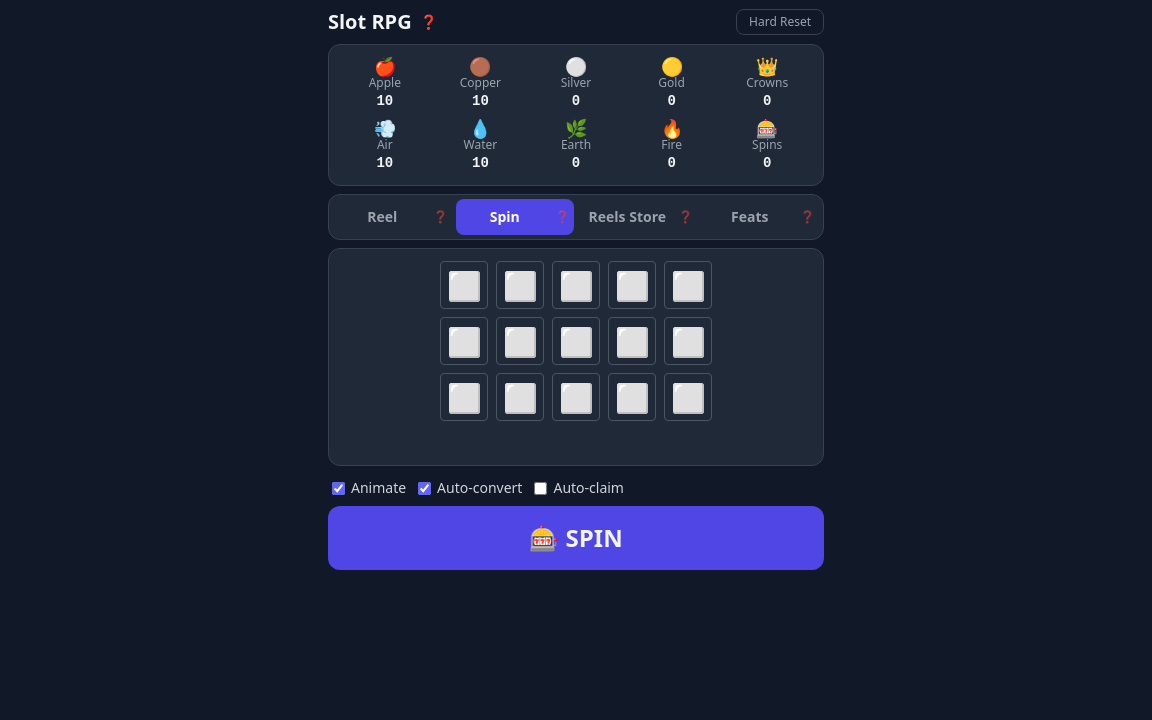
Test: persistence flow integration › hard reset returns game to initial state
Click the button with aria-label "Spin the reels": (576, 538) [328,506,824,570]
Wait 5000 ms
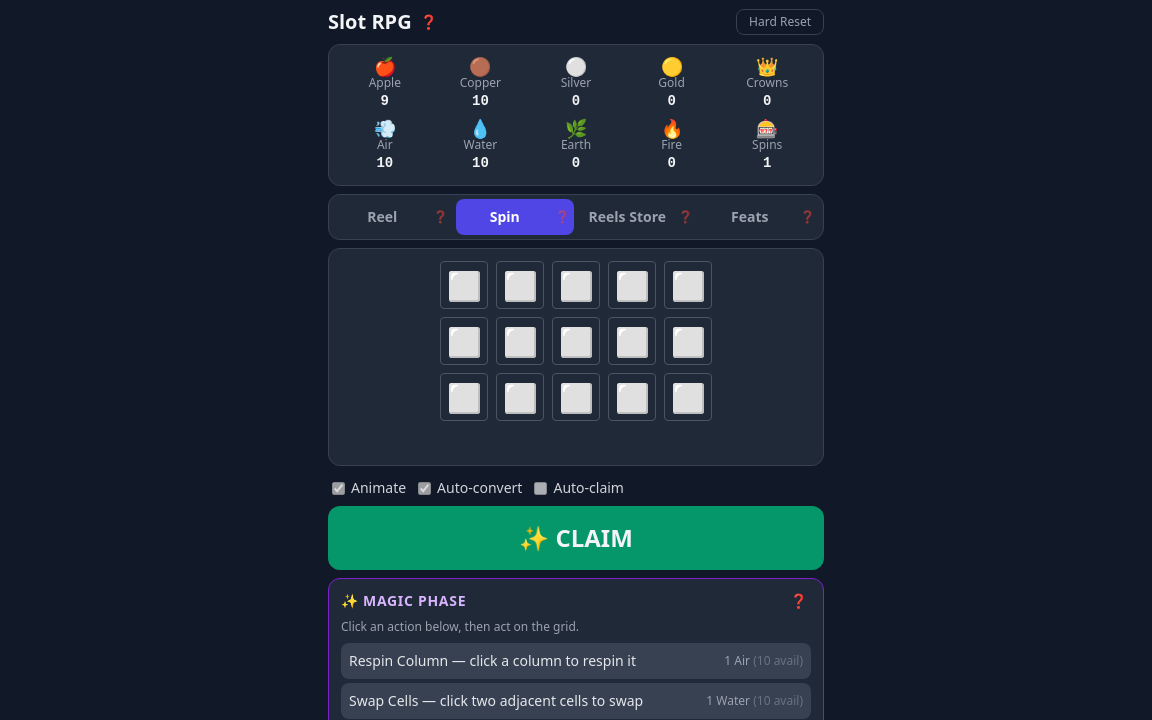
Click the button with aria-label "Claim spin result": (576, 538) [328,506,824,570]
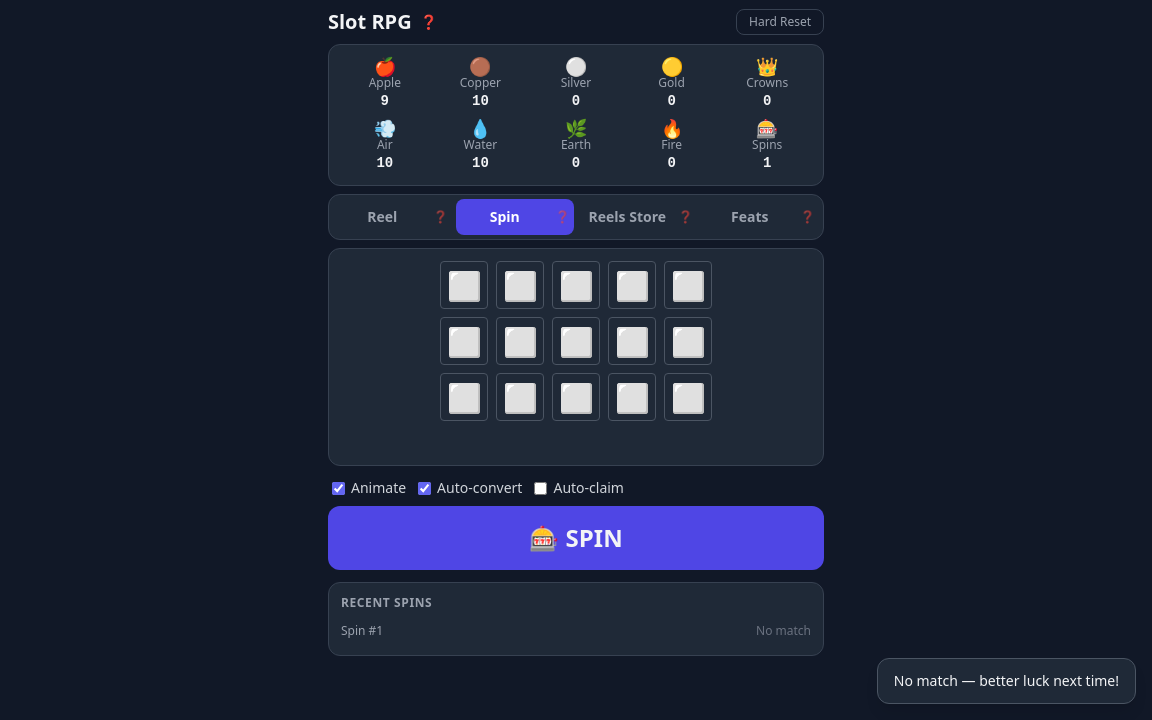
Result: the text "9" is shown at [381,91,389,111]
Click the button "Hard Reset": (780, 22) [736,9,824,35]
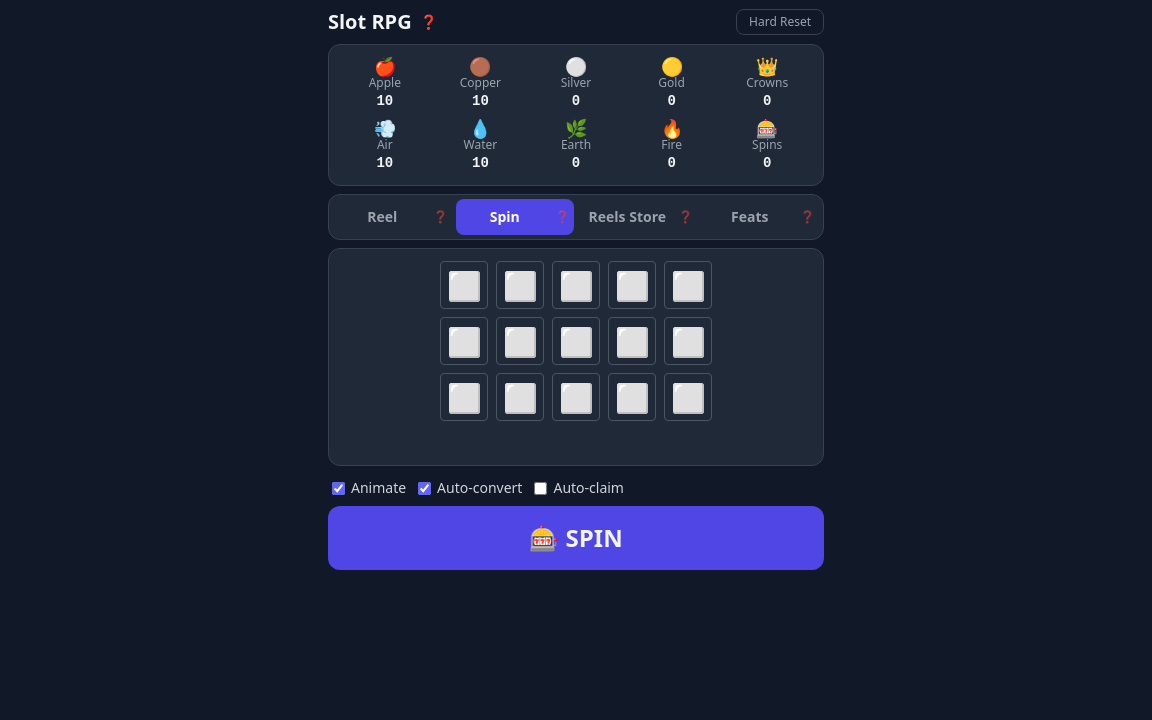
Result: the text "10" below "Apple" is shown at [376,93,393,109]
